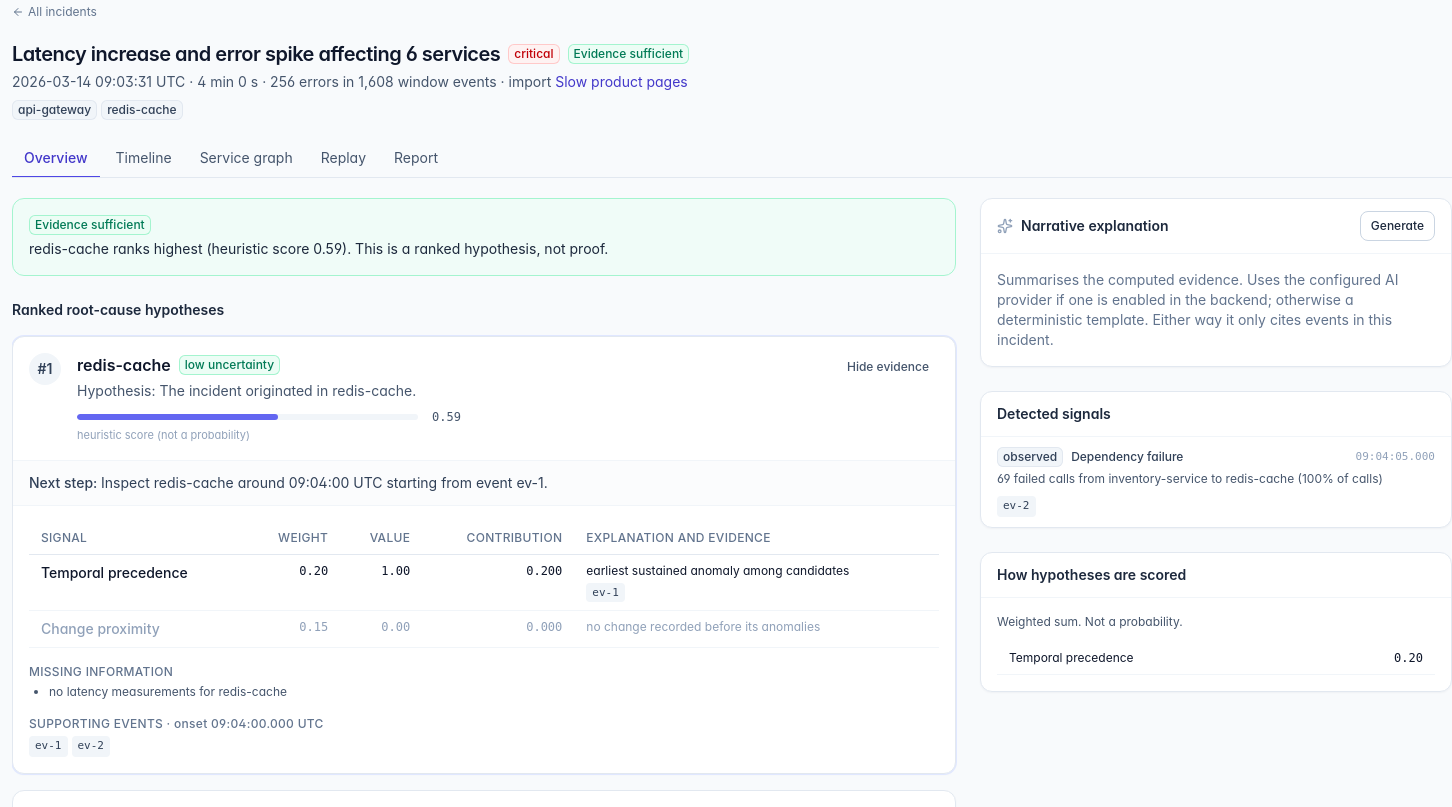
Test: generates a deterministic explanation on request
This screenshot has width=1452, height=807.
Click the button "Generate".
click(1397, 226)  # box 1360,211 -> 1435,241
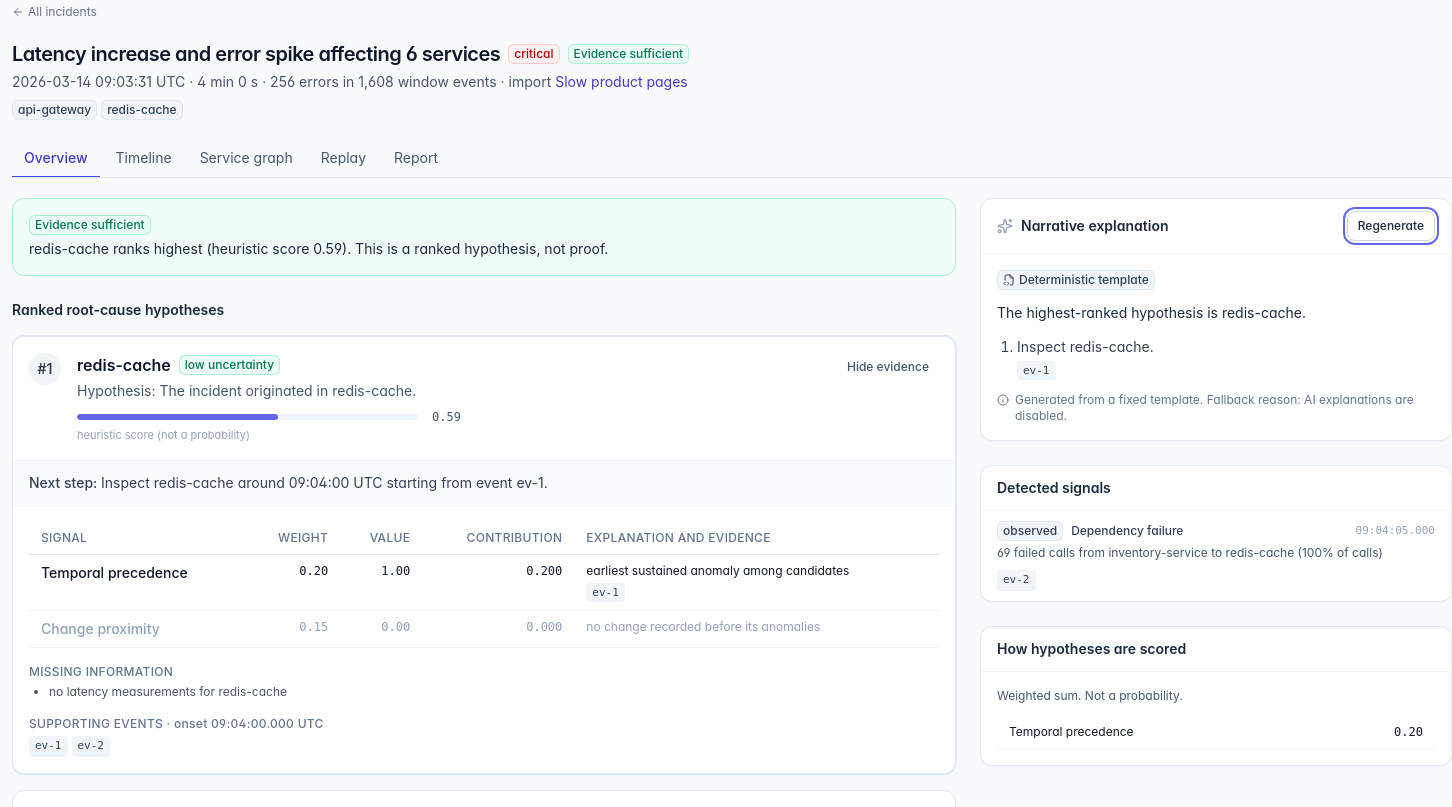
Check: the text "Deterministic template" is shown, box 997,270 -> 1155,290
Check: the text "The highest-ranked hypothesis is redis-cache." is shown, box 997,304 -> 1306,321
Check: the text "Fallback reason: AI explanations are disabled" is shown, box 1015,392 -> 1414,424
